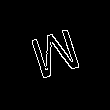M_S: (25, 24, 85, 86)
